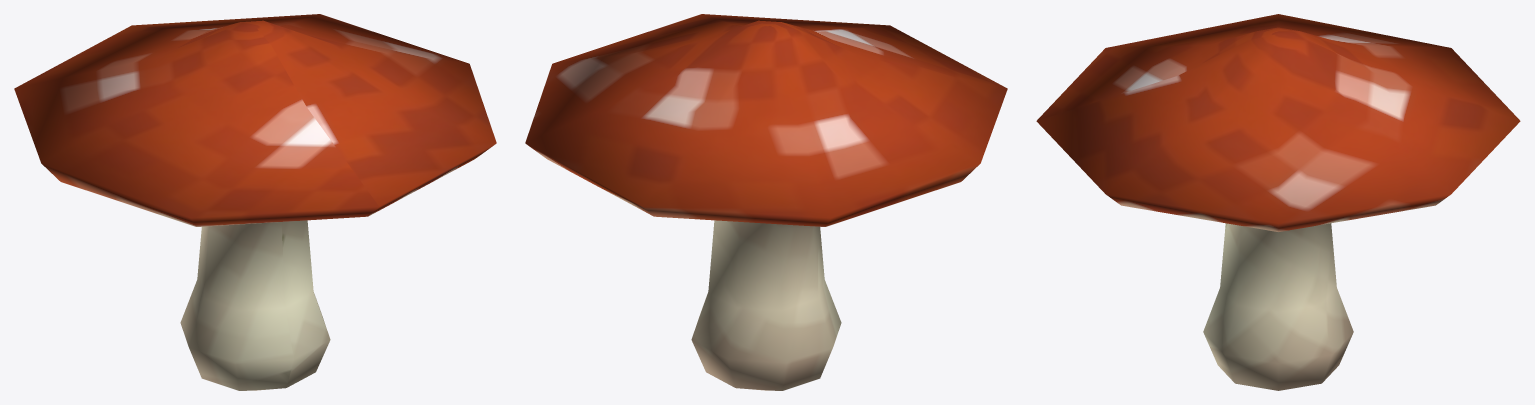
Rendered from Mushroom_2.fbx.
3 views of the same model, side by side, from view 1: azimuth 30°, elevation 25°; view 2: azimuth 150°, elevation 25°; view 3: azimuth 270°, elevation 25° (orthographic). The views are drawn at different scales.
Parts seen in each view (by area): view 1: Mushroom_2; view 2: Mushroom_2; view 3: Mushroom_2.
Boxes of the visible parts, x1,y1,x2,y2 form: Mushroom_2: (14,14,496,390); Mushroom_2: (525,14,1007,390); Mushroom_2: (1036,14,1520,390).
Size of the model in its own units: 116 by 94.15 by 116.
